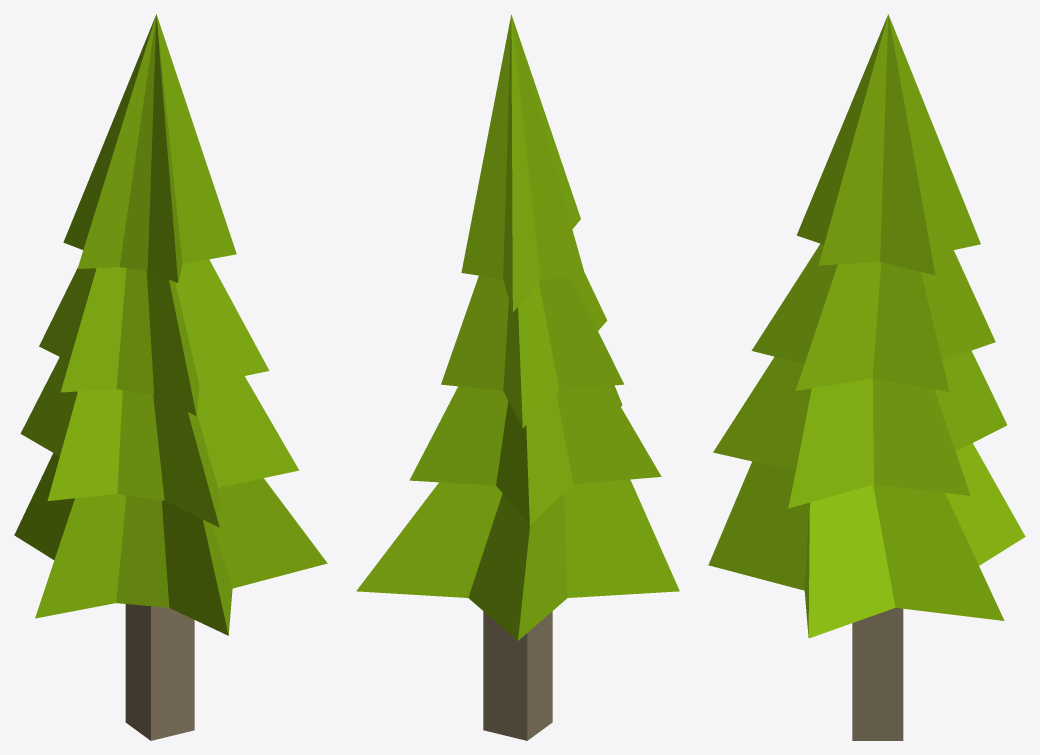
File: tree_pine_star_skewed_7.fbx
3 renders of one model, left to right at view 1: azimuth 30°, elevation 25°; view 2: azimuth 150°, elevation 25°; view 3: azimuth 270°, elevation 25°, orthographic.
Visible parts, largest first — view 1: tree_pine_star_skewed_7; view 2: tree_pine_star_skewed_7; view 3: tree_pine_star_skewed_7.
Boxes of the visible parts, x1,y1,x2,y2 form: tree_pine_star_skewed_7: (14,14,327,740); tree_pine_star_skewed_7: (356,14,679,740); tree_pine_star_skewed_7: (708,14,1025,740).
Size of the model in its own units: 77.84 by 191 by 76.56.
